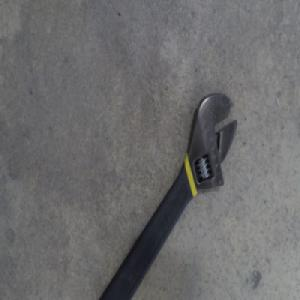AdjustableWrench: (101, 92, 240, 299)
